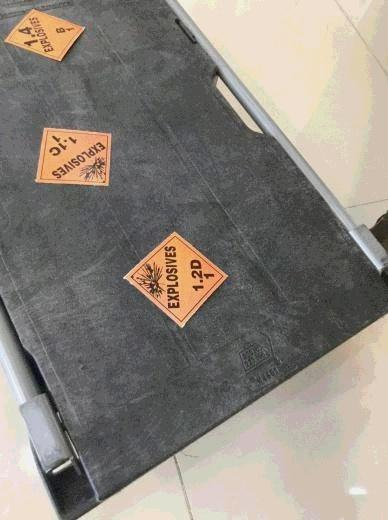explosive: (121, 232, 234, 328), (35, 124, 111, 190), (3, 8, 88, 61)
